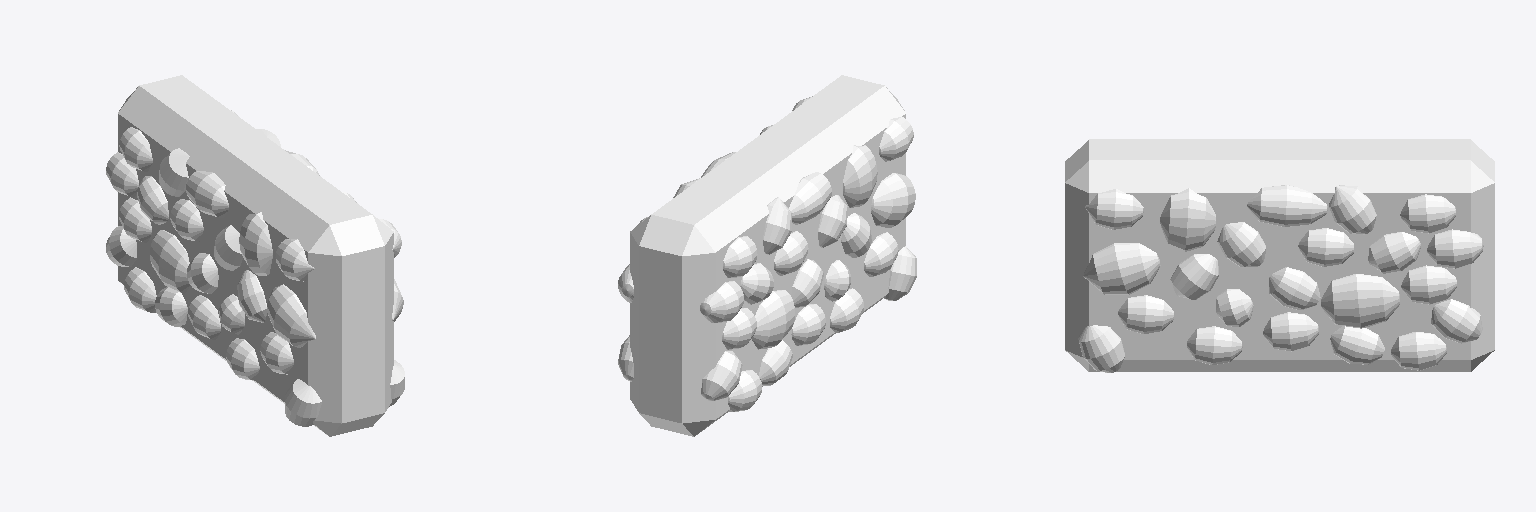
The model's file is cobbleWall.obj.
3 renders of one model, left to right at view 1: azimuth 30°, elevation 25°; view 2: azimuth 150°, elevation 25°; view 3: azimuth 270°, elevation 25°, orthographic.
Visible parts, largest first — view 1: pCube2; view 2: pCube2; view 3: pCube2.
Boxes of the visible parts, x1=… form: pCube2: x1=106, y1=75, x2=404, y2=436; pCube2: x1=618, y1=75, x2=916, y2=436; pCube2: x1=1065, y1=139, x2=1494, y2=372.
Size of the model in its own units: 8.3 by 13.73 by 25.28.